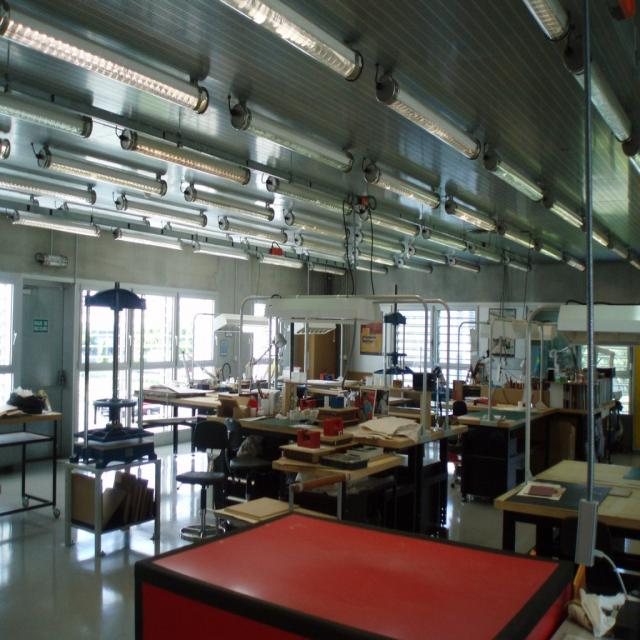chair: (177, 420, 229, 541)
desk: (127, 489, 590, 639)
